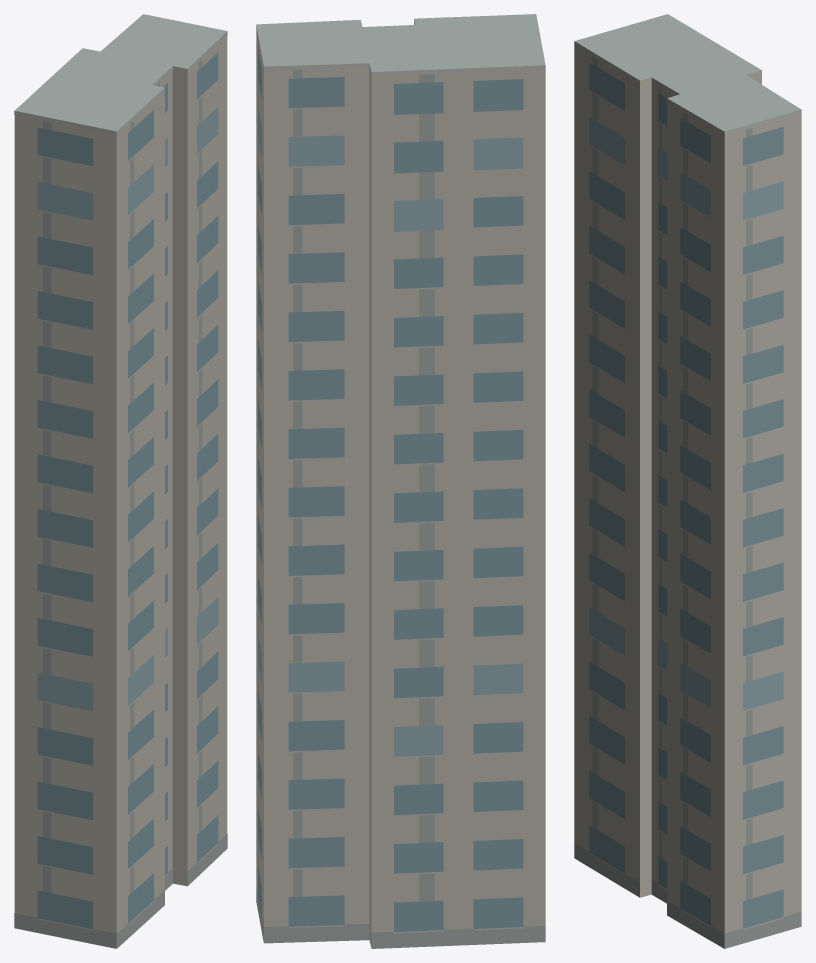
Rendered from survey-upis-32701025.glb.
3 views of the same model, side by side, from view 1: azimuth 30°, elevation 25°; view 2: azimuth 150°, elevation 25°; view 3: azimuth 270°, elevation 25° (orthographic). The views are drawn at different scales.
Parts seen in each view (by area): view 1: survey-upis-32701025.tmp; view 2: survey-upis-32701025.tmp; view 3: survey-upis-32701025.tmp.
Part boxes in pixels (box(x1,y1,x2,y2)): survey-upis-32701025.tmp: box(14, 14, 227, 948); survey-upis-32701025.tmp: box(256, 14, 545, 948); survey-upis-32701025.tmp: box(574, 14, 801, 948).
Size of the model in its own units: 14.14 by 45.75 by 11.53.
